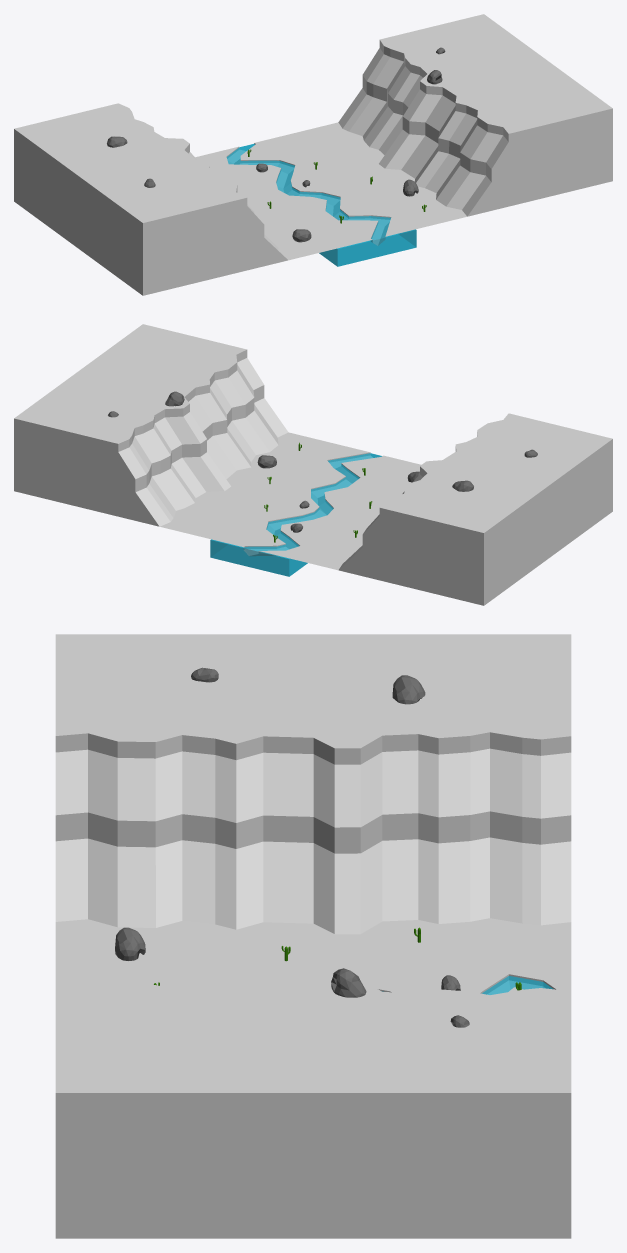
File: Canyon.fbx
3 views of the same model, one above another, from view 1: azimuth 30°, elevation 25°; view 2: azimuth 150°, elevation 25°; view 3: azimuth 270°, elevation 25° (orthographic). The views are drawn at different scales.
Parts seen in each view (by area): view 1: CanyonPlane.001, Water.001, Rock.001; view 2: CanyonPlane.001, Water.001, Rock.001; view 3: CanyonPlane.001, Rock.001.
Part boxes in pixels (box(x1,y1,x2,y2)): CanyonPlane.001: box(14, 14, 612, 295); Water.001: box(226, 143, 416, 266); Rock.001: box(107, 47, 445, 242); CanyonPlane.001: box(14, 324, 612, 605); Water.001: box(210, 453, 381, 576); Rock.001: box(108, 391, 537, 532); CanyonPlane.001: box(55, 634, 571, 1238); Rock.001: box(115, 667, 469, 1027).
Size of the model in its own units: 31616 by 6531 by 15025.
